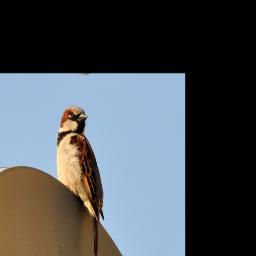Swallow: (41, 103, 119, 256)
